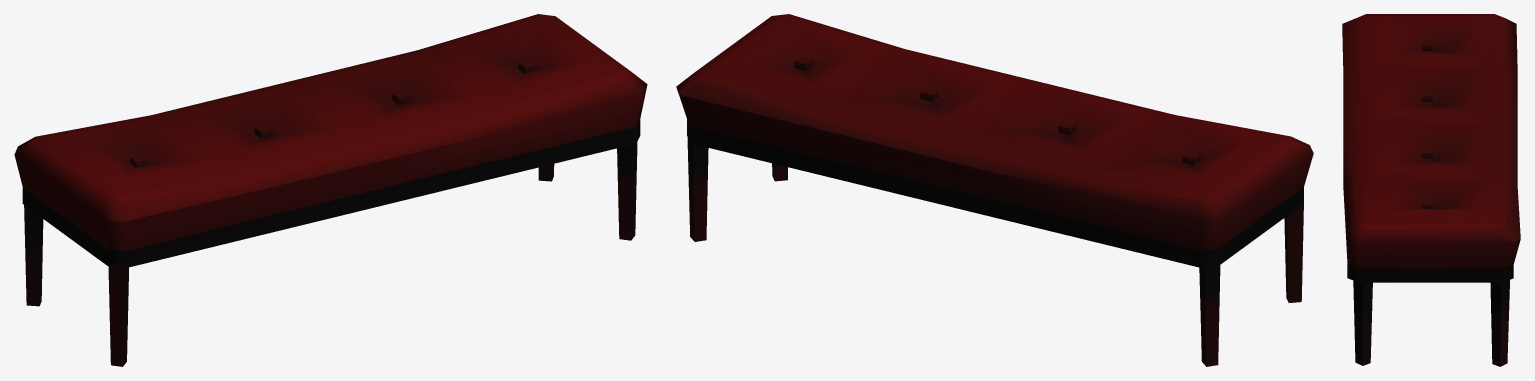
The model's file is PianoSeat.glb.
3 renders of one model, left to right at view 1: azimuth 30°, elevation 25°; view 2: azimuth 150°, elevation 25°; view 3: azimuth 270°, elevation 25°, orthographic. The views are drawn at different scales.
Visible parts, largest first — view 1: PianoSeat; view 2: PianoSeat; view 3: PianoSeat.
Part boxes in pixels (x1,y1,x2,y2): PianoSeat: [14, 14, 647, 366]; PianoSeat: [676, 14, 1313, 366]; PianoSeat: [1342, 14, 1520, 366].
Bounding box in the file's own units: 8.63 × 2.59 × 2.9.
